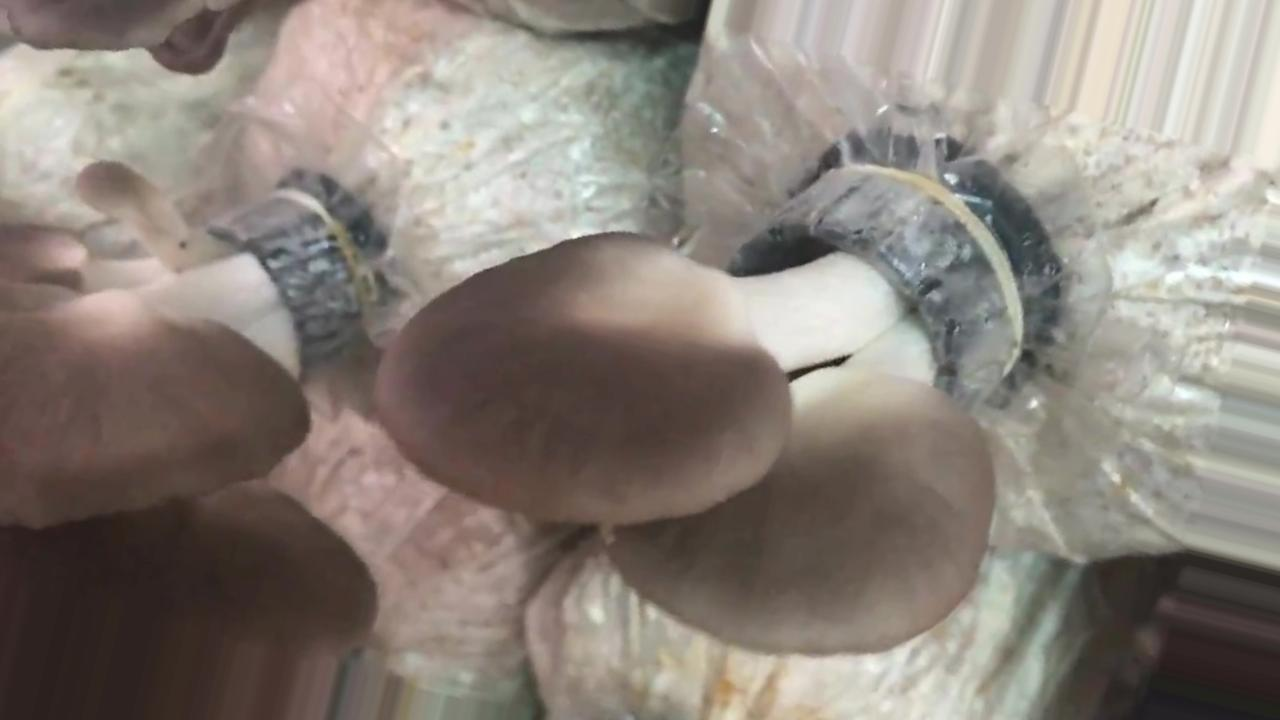nam: (377, 162, 1031, 656), (1, 153, 377, 720)
